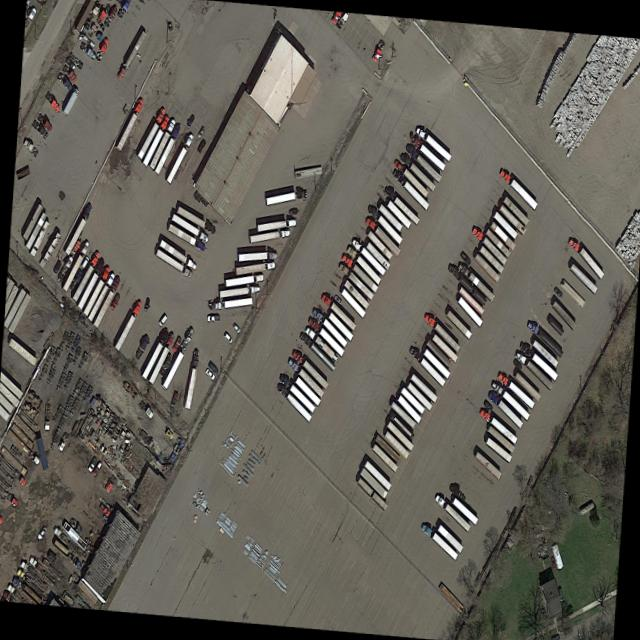large-vehicle: (447, 263, 487, 306), (115, 98, 145, 153), (500, 168, 538, 211), (515, 350, 554, 391), (492, 381, 530, 422), (292, 349, 329, 391), (288, 357, 325, 399), (409, 346, 446, 388), (393, 169, 429, 212), (569, 237, 605, 280), (142, 115, 171, 168), (117, 31, 147, 82), (308, 317, 345, 358), (458, 262, 495, 303), (300, 332, 336, 374), (166, 133, 195, 185), (137, 108, 166, 160), (77, 259, 106, 311), (149, 118, 177, 171), (520, 342, 558, 381), (342, 254, 379, 294), (400, 152, 436, 193), (65, 204, 93, 256), (115, 300, 143, 352), (93, 276, 121, 328), (73, 251, 101, 303), (497, 372, 535, 410), (421, 522, 458, 561), (320, 293, 357, 332), (312, 308, 348, 348), (424, 313, 460, 353), (366, 217, 401, 258), (368, 205, 403, 246), (88, 272, 116, 323), (434, 495, 471, 533), (154, 123, 181, 175), (149, 332, 175, 386), (527, 320, 563, 359), (277, 383, 312, 423), (394, 159, 429, 199), (142, 329, 170, 379), (83, 267, 111, 317), (63, 241, 90, 292), (480, 409, 518, 445), (488, 391, 524, 429), (280, 375, 315, 414), (339, 262, 374, 301), (407, 144, 442, 183), (472, 227, 507, 266), (416, 126, 452, 163), (385, 188, 420, 226), (347, 246, 381, 285), (352, 238, 386, 277), (305, 326, 338, 365), (411, 136, 446, 172), (7, 429, 40, 467), (172, 213, 210, 244), (177, 206, 216, 236), (160, 240, 197, 271), (156, 249, 193, 279), (168, 224, 206, 252), (183, 350, 200, 410), (28, 556, 58, 590), (20, 561, 50, 593), (0, 453, 27, 488), (53, 540, 83, 571), (162, 351, 185, 391), (9, 293, 31, 334), (17, 568, 46, 599), (54, 527, 83, 558), (360, 468, 388, 500), (570, 263, 598, 295), (4, 289, 26, 329), (25, 213, 48, 251), (8, 338, 38, 367), (410, 373, 438, 404), (499, 205, 527, 236), (364, 461, 392, 491), (514, 372, 541, 403), (1, 446, 28, 477), (424, 349, 451, 380), (387, 421, 414, 452), (294, 377, 321, 407), (23, 204, 44, 242), (40, 233, 62, 269), (487, 426, 515, 454), (533, 339, 559, 369), (375, 434, 401, 464), (432, 334, 458, 364), (446, 310, 472, 340), (490, 221, 516, 251), (474, 254, 500, 284), (344, 280, 369, 311), (452, 498, 479, 526), (475, 452, 502, 480), (407, 383, 433, 412), (390, 401, 416, 430), (459, 287, 485, 316), (329, 313, 354, 343), (368, 231, 393, 261), (341, 289, 366, 319), (552, 301, 577, 331), (458, 297, 483, 327), (504, 196, 529, 226), (30, 221, 50, 258), (366, 242, 391, 271), (378, 204, 403, 233), (438, 525, 463, 554), (397, 396, 422, 425), (390, 412, 415, 441), (373, 444, 398, 473), (561, 280, 586, 309), (493, 211, 518, 240), (486, 229, 511, 258), (479, 246, 504, 275), (427, 339, 451, 369), (387, 201, 412, 229), (401, 387, 425, 416), (385, 431, 409, 460), (486, 437, 512, 463), (266, 190, 307, 206), (11, 423, 34, 451), (13, 415, 36, 442), (250, 230, 291, 244), (236, 262, 276, 276), (62, 87, 80, 117), (220, 286, 261, 299), (211, 298, 253, 310), (226, 275, 264, 288), (258, 220, 297, 232), (0, 484, 18, 507), (37, 437, 49, 471), (239, 253, 278, 263), (295, 166, 323, 179), (548, 317, 564, 337), (357, 478, 373, 498), (372, 493, 388, 512), (160, 355, 173, 378), (44, 403, 51, 431)
small-vehicle: (69, 271, 84, 293), (110, 294, 121, 311), (460, 250, 472, 265), (71, 240, 81, 257), (88, 457, 98, 474), (208, 360, 219, 375), (205, 368, 216, 382), (37, 526, 47, 541), (100, 503, 110, 518), (92, 462, 102, 477), (173, 337, 182, 353), (170, 391, 178, 408), (224, 332, 234, 345), (165, 429, 175, 442), (186, 115, 195, 129), (53, 261, 62, 275), (81, 256, 90, 270), (197, 140, 206, 154), (513, 359, 523, 371), (159, 315, 168, 328), (554, 286, 563, 299), (197, 126, 205, 140), (484, 400, 493, 412), (207, 315, 220, 323), (232, 323, 241, 334), (144, 298, 151, 312), (334, 294, 342, 305), (551, 556, 557, 570), (289, 209, 299, 217)
